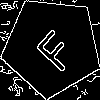F: (27, 21, 80, 75)
